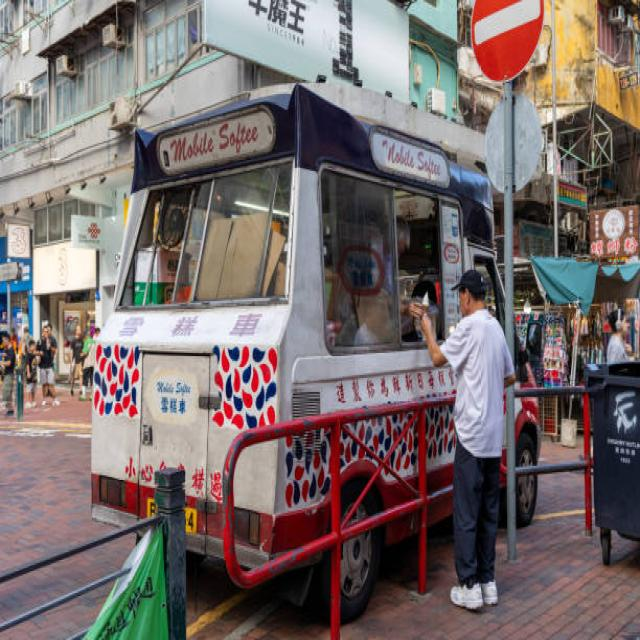Emperan: (82, 77, 549, 624)
